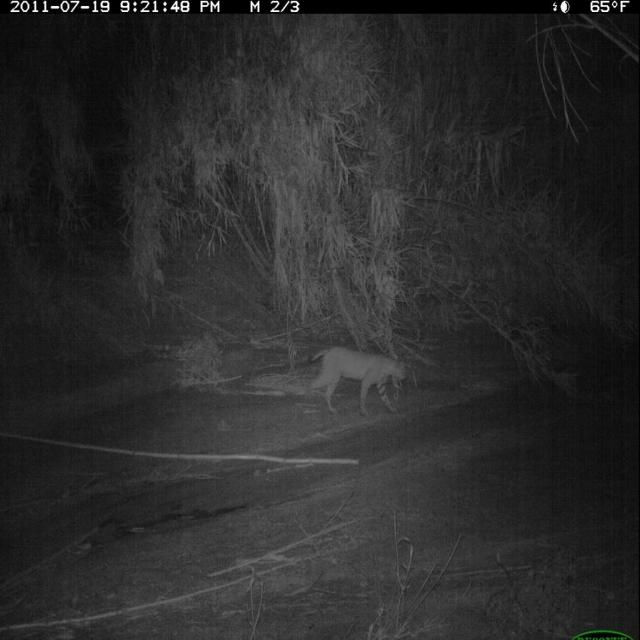bobcat: (300, 344, 412, 420)
